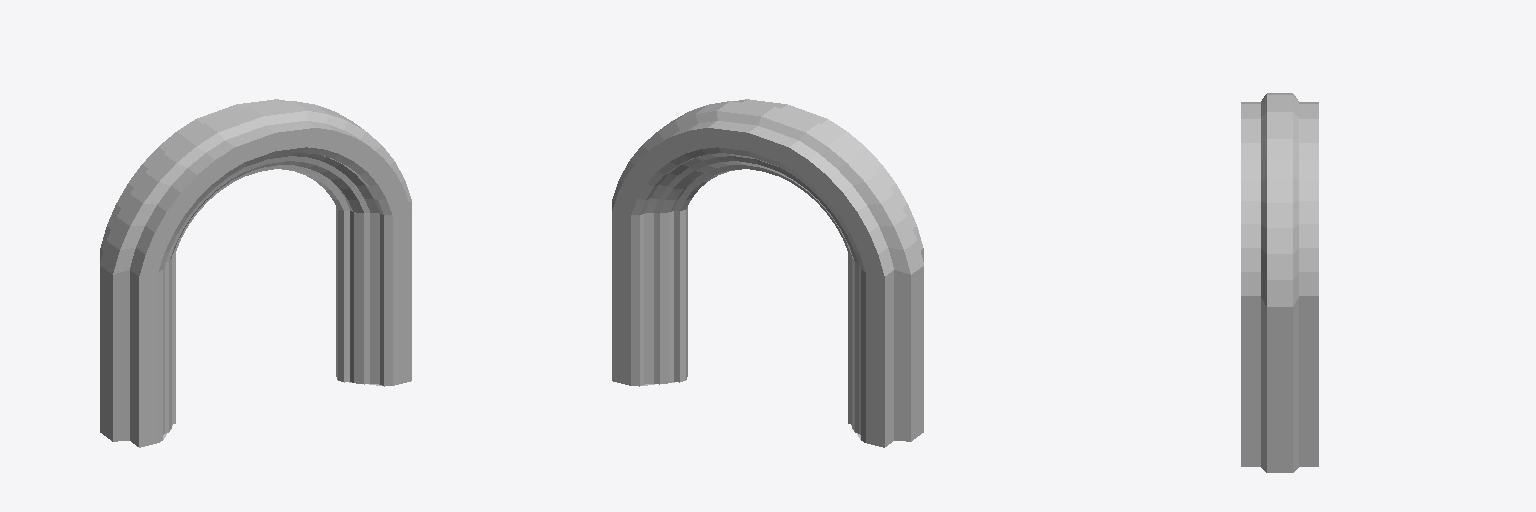
The model's file is Archway.obj.
3 views of the same model, side by side, from view 1: azimuth 30°, elevation 25°; view 2: azimuth 150°, elevation 25°; view 3: azimuth 270°, elevation 25° (orthographic).
Parts seen in each view (by area): view 1: Archway_Cube.001; view 2: Archway_Cube.001; view 3: Archway_Cube.001.
Part boxes in pixels (left/top/right/bottom): Archway_Cube.001: left=100, top=99, right=411, bottom=447; Archway_Cube.001: left=612, top=99, right=923, bottom=447; Archway_Cube.001: left=1241, top=93, right=1318, bottom=472.
Bounding box in the file's own units: 11 × 10.13 × 2.48.